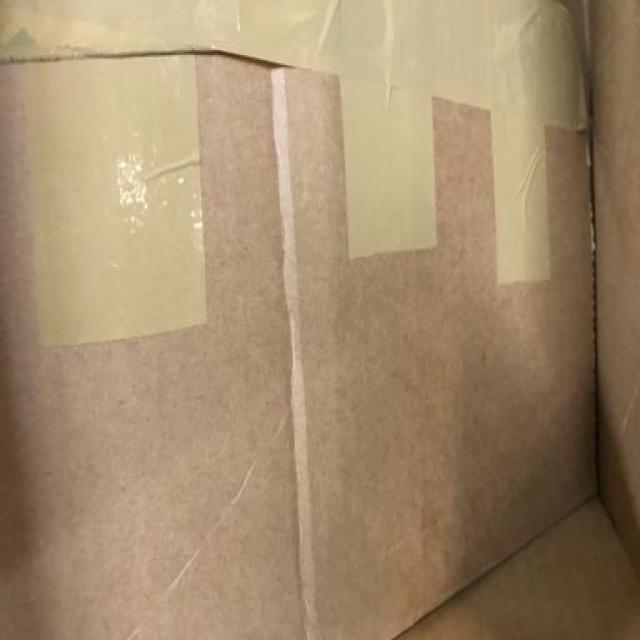cardboard paper: (0, 54, 592, 638)
